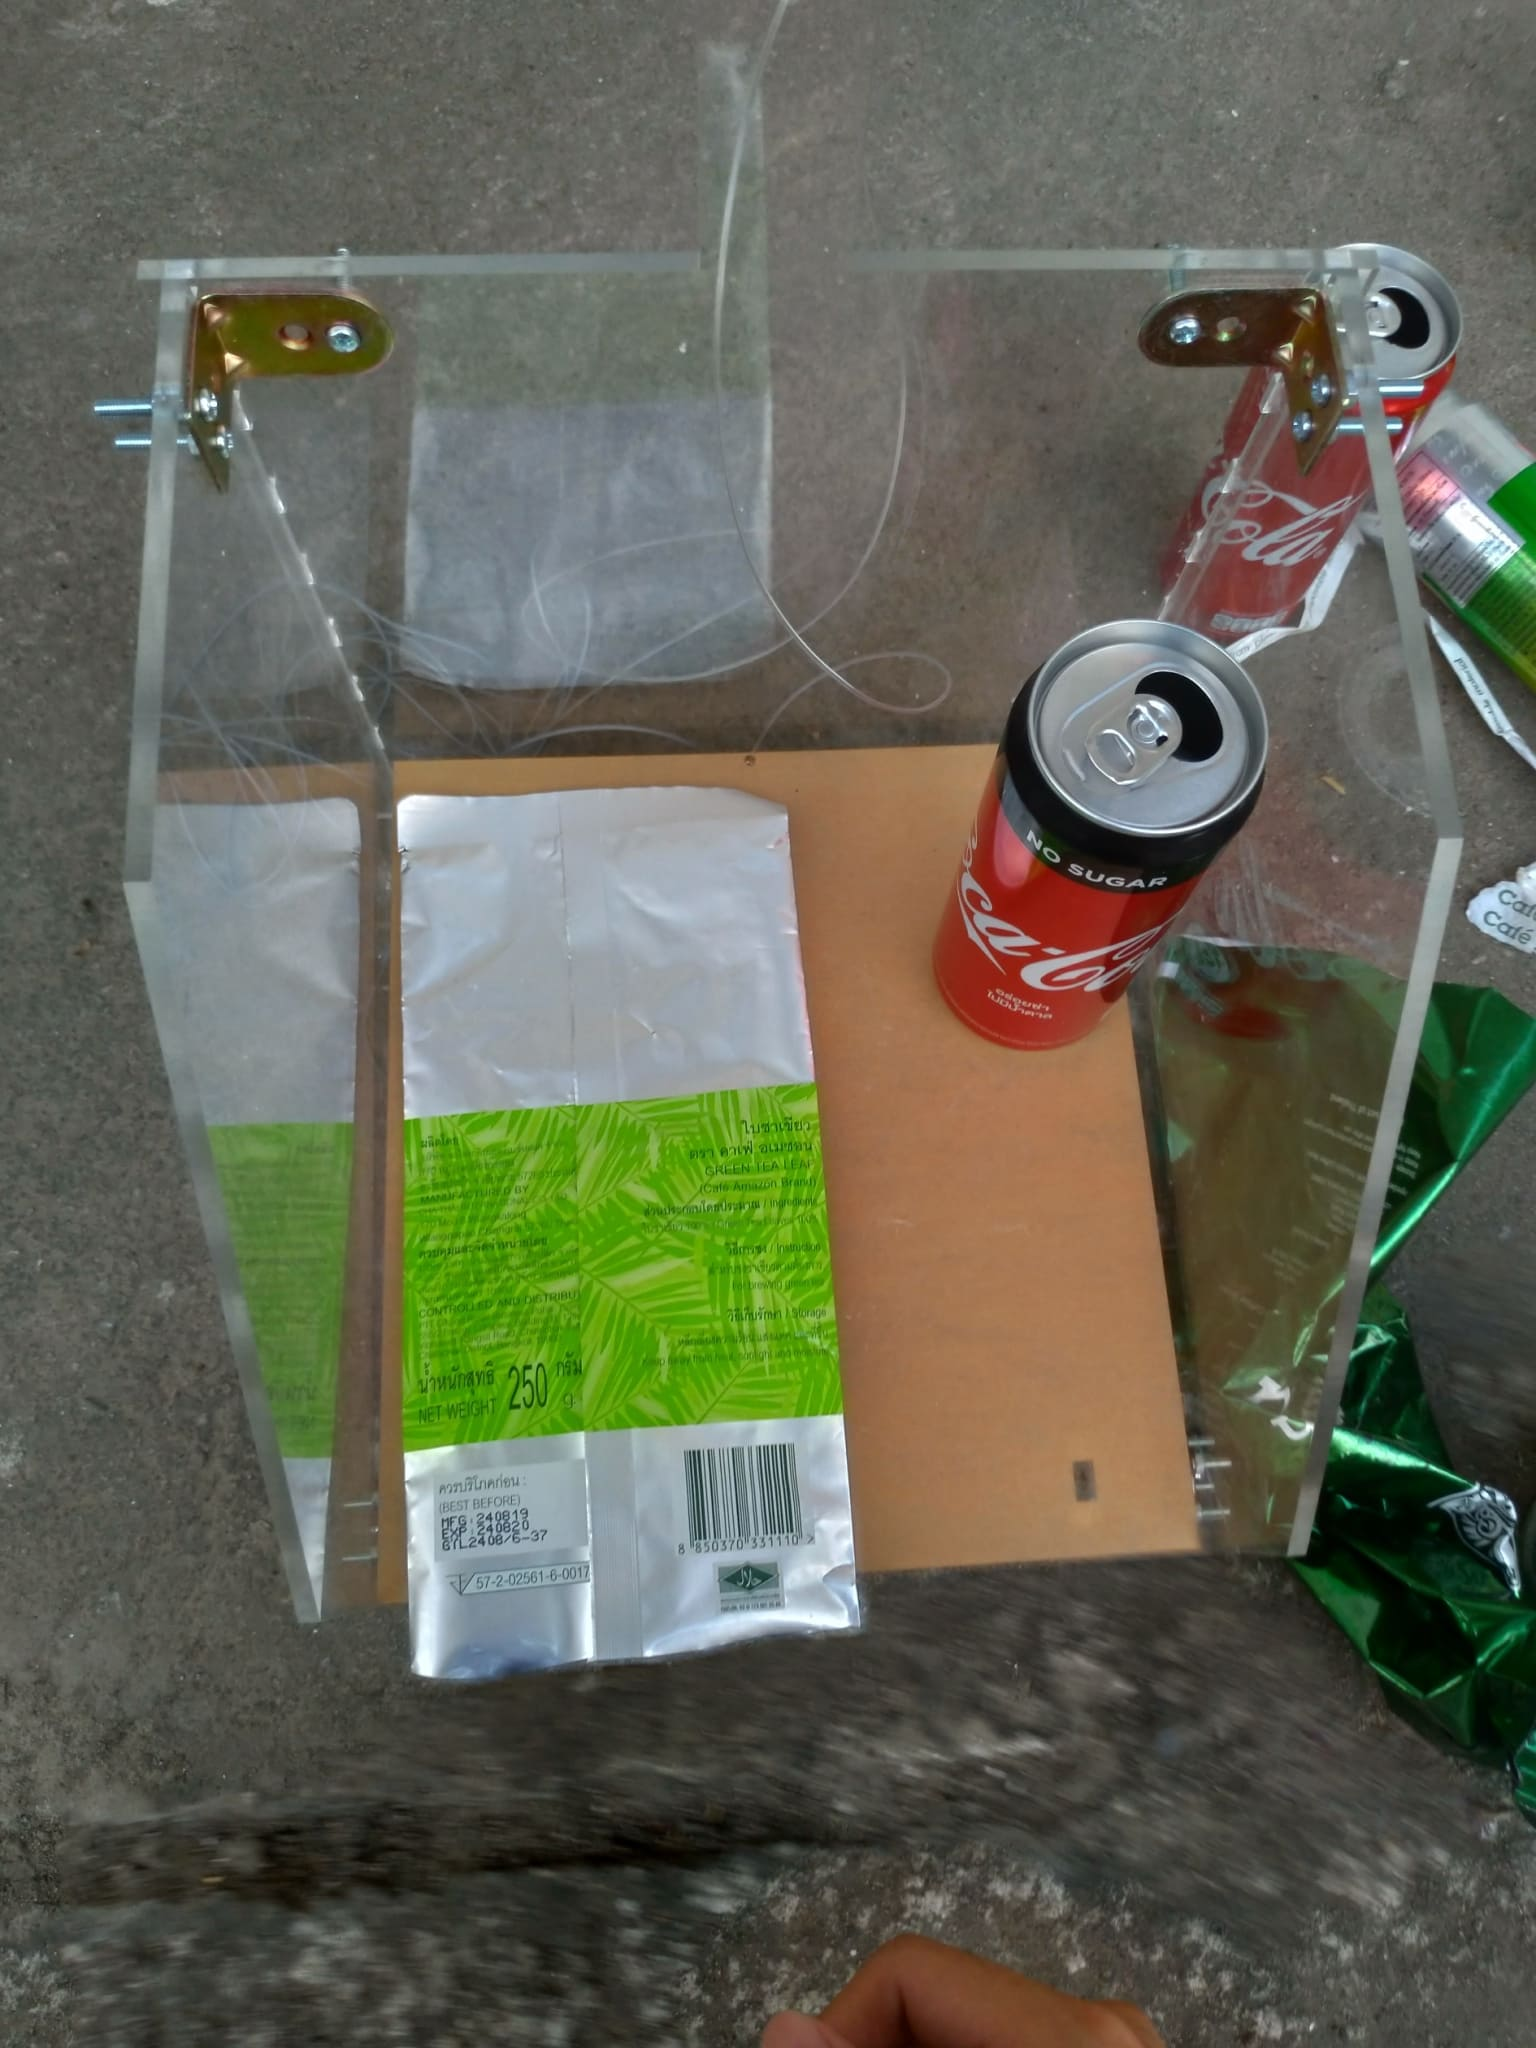AlCan: (937, 611, 1263, 1045), (1167, 242, 1454, 634), (1391, 389, 1536, 669)
Others: (390, 784, 857, 1680), (1157, 935, 1536, 1784)
